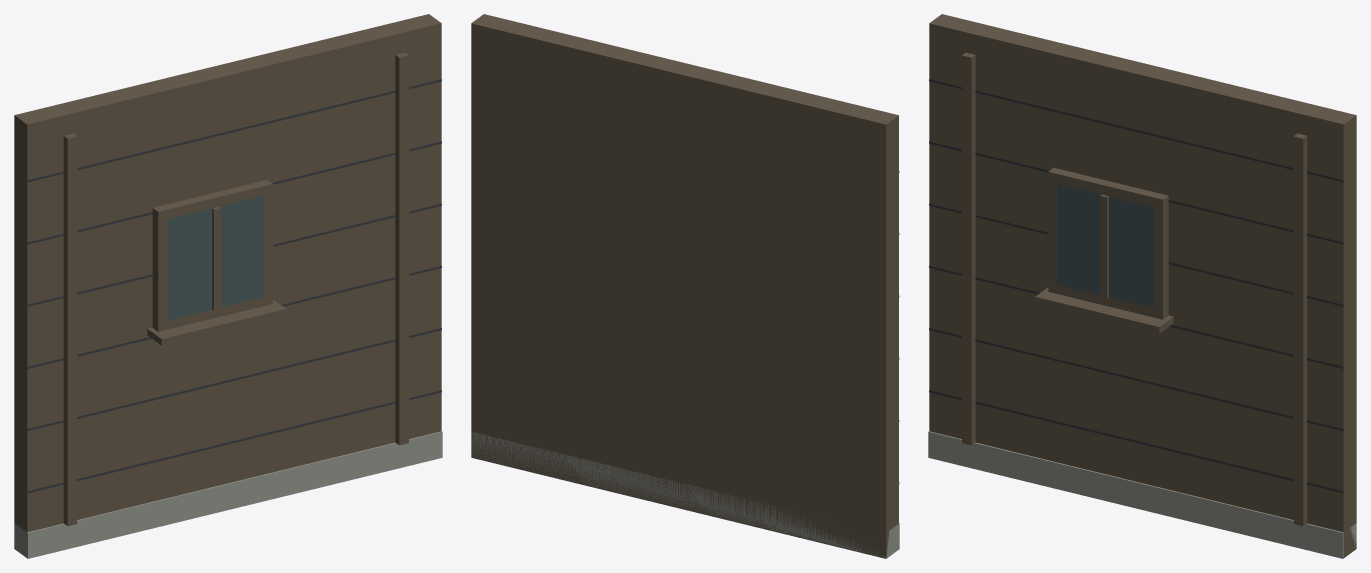
The picture shows the model from 3 angles, left to right: view 1: azimuth 30°, elevation 25°; view 2: azimuth 150°, elevation 25°; view 3: azimuth 330°, elevation 25°; orthographic projection.
Visible parts, largest first — view 1: a2015/0/base-w1; view 2: a2015/0/base-w1; view 3: a2015/0/base-w1.
Part boxes in pixels (x1,y1,x2,y2): a2015/0/base-w1: [14, 14, 442, 558]; a2015/0/base-w1: [471, 14, 899, 558]; a2015/0/base-w1: [928, 14, 1356, 558].
Size of the model in its own units: 3 by 3 by 0.34.
